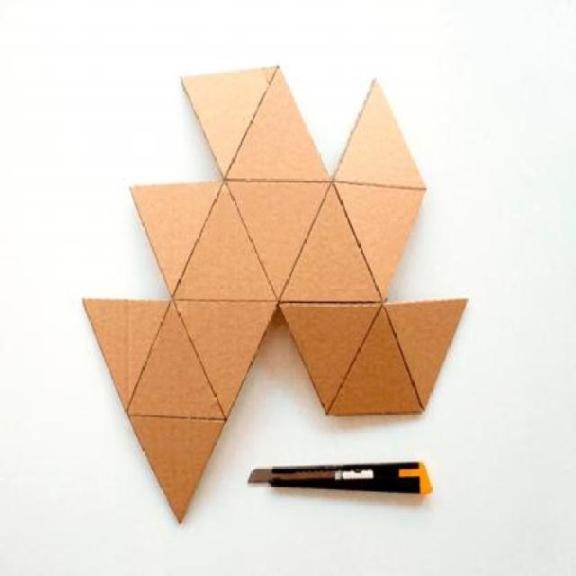Kertas: (84, 67, 466, 521)
